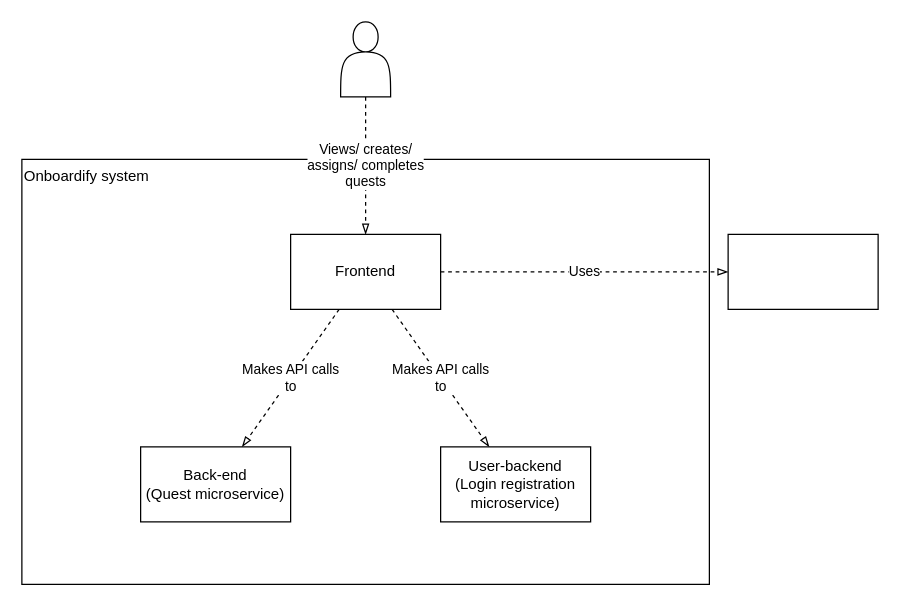
This 900x606 diagram has some shape labels left out. The box of each missing label's shape, as (x1, y1, x2, y2) in pixels:
Microsoft Login API: (727, 233, 878, 309)
User: (339, 21, 391, 97)
